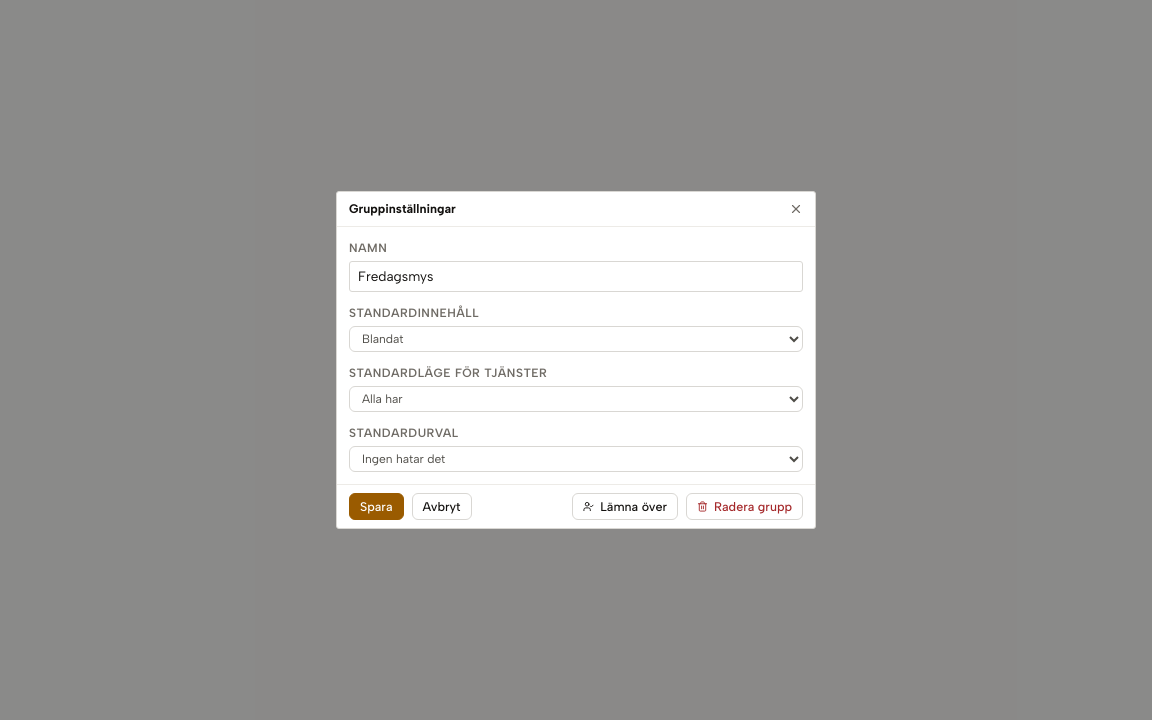
Test: GroupSettingsModal — överlämningen (BIN-1118) › erbjuder inte en medlemsrad vars uid saknas i gruppens memberUids
This screenshot has width=1152, height=720.
Click the button "Lämna över": (625, 507) 572,493 -> 678,520
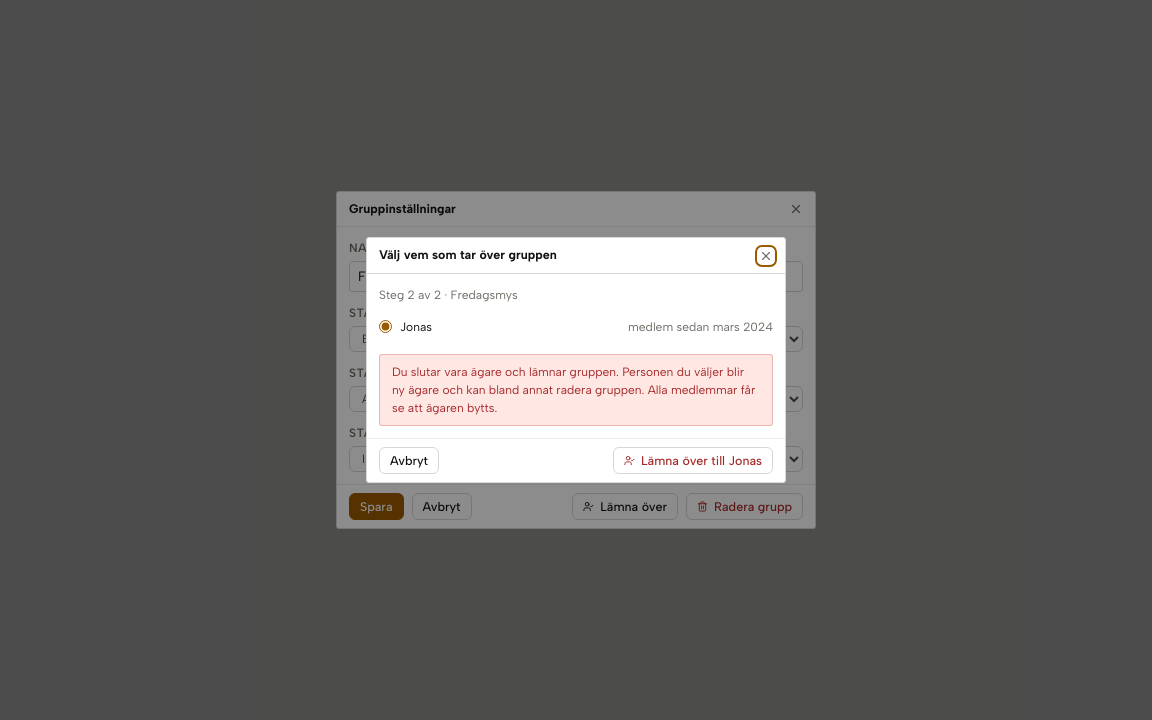
Now the dialog "tar över gruppen" shows "Jonas", box 400,320 -> 432,334
